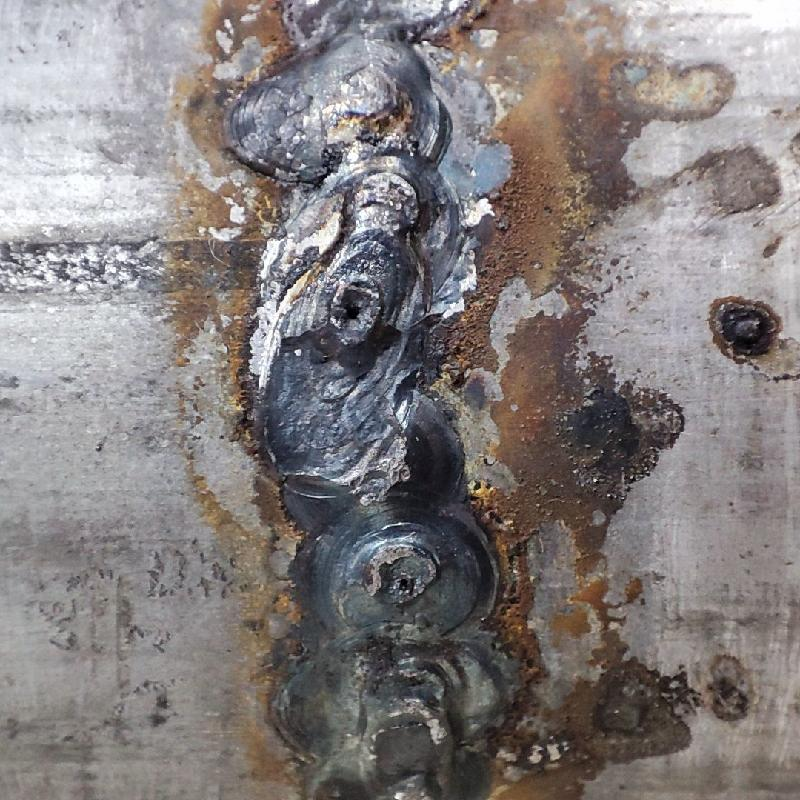Surface_pores: (318, 275, 381, 343)
wrong_size: (226, 4, 503, 796)
